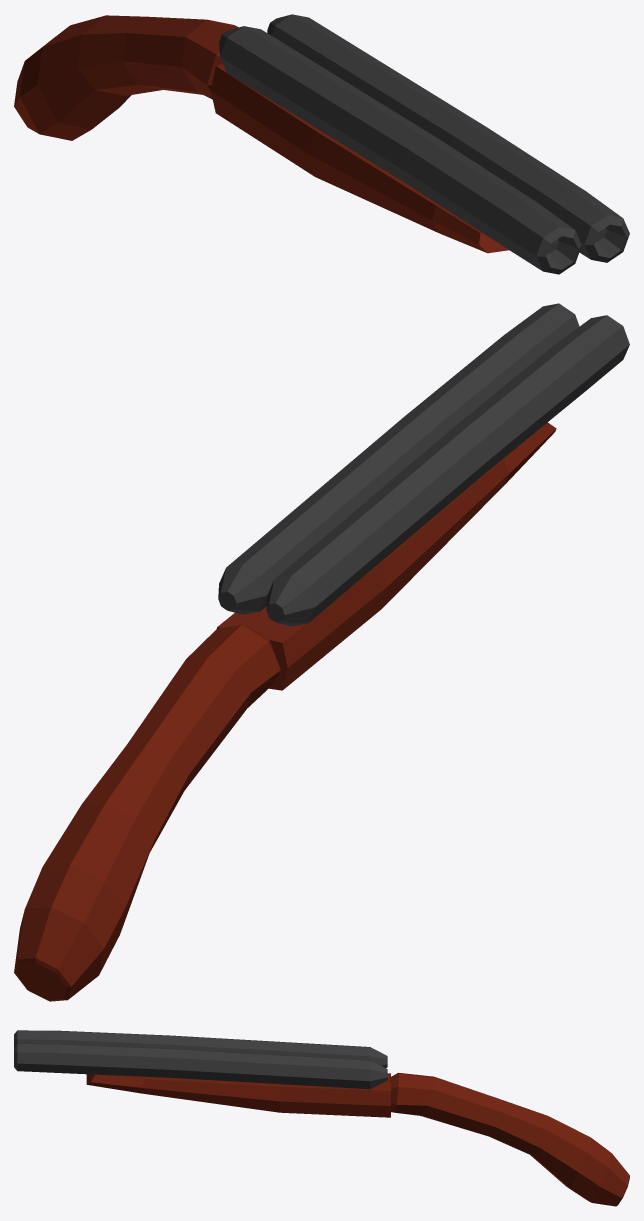
File: double barreled shoutgun.fbx
The picture shows the model from 3 angles, top to bottom: view 1: azimuth 30°, elevation 25°; view 2: azimuth 150°, elevation 25°; view 3: azimuth 270°, elevation 25°; orthographic projection. The views are drawn at different scales.
Parts seen in each view (by area): view 1: Second barrel, Handle, Barrel, Under barrel thing; view 2: Handle, Second barrel, Barrel, Under barrel thing; view 3: Handle, Barrel, Under barrel thing, Second barrel.
Part boxes in pixels (left/top/right/bottom): Second barrel: left=219, top=26, right=581, bottom=274; Handle: left=14, top=15, right=238, bottom=140; Barrel: left=267, top=14, right=629, bottom=262; Under barrel thing: left=210, top=64, right=508, bottom=253; Handle: left=14, top=624, right=280, bottom=1001; Second barrel: left=266, top=315, right=629, bottom=626; Barrel: left=218, top=303, right=579, bottom=614; Under barrel thing: left=216, top=422, right=556, bottom=690; Handle: left=390, top=1072, right=629, bottom=1206; Barrel: left=14, top=1043, right=387, bottom=1089; Under barrel thing: left=86, top=1073, right=390, bottom=1117; Second barrel: left=14, top=1030, right=387, bottom=1067.
Size of the model in its own units: 49.36 by 148 by 489.
